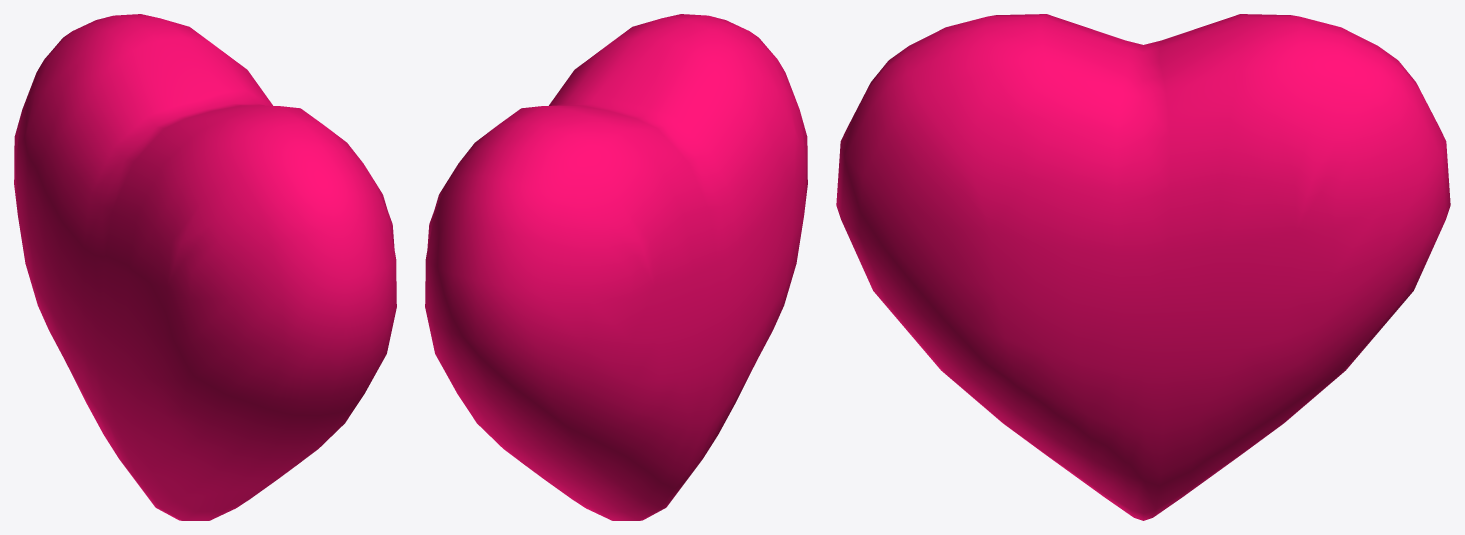
The picture shows the model from 3 angles, left to right: view 1: azimuth 30°, elevation 25°; view 2: azimuth 150°, elevation 25°; view 3: azimuth 270°, elevation 25°; orthographic projection. The views are drawn at different scales.
Visible parts, largest first — view 1: heart; view 2: heart; view 3: heart.
Boxes of the visible parts, bbox=[...] form: heart: bbox=[14, 14, 396, 520]; heart: bbox=[425, 14, 807, 520]; heart: bbox=[836, 14, 1450, 520].
Size of the model in its own units: 1.04 by 1.97 by 2.25.
1 material, 1 textured.
